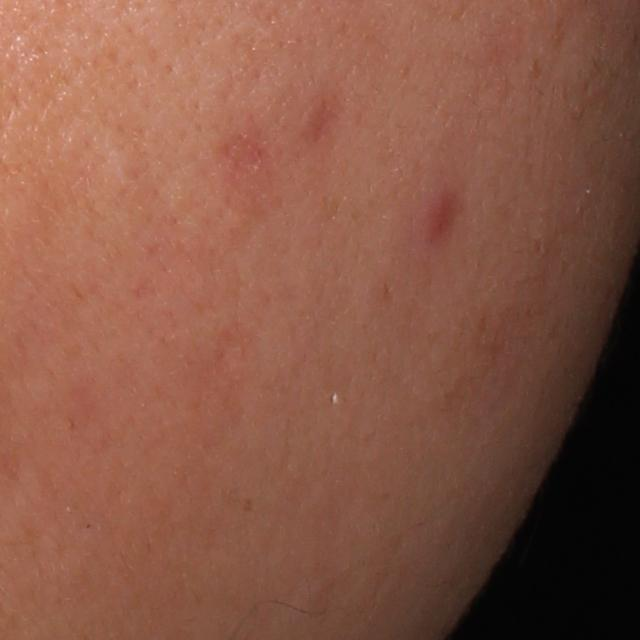papule: (415, 186, 462, 247)
